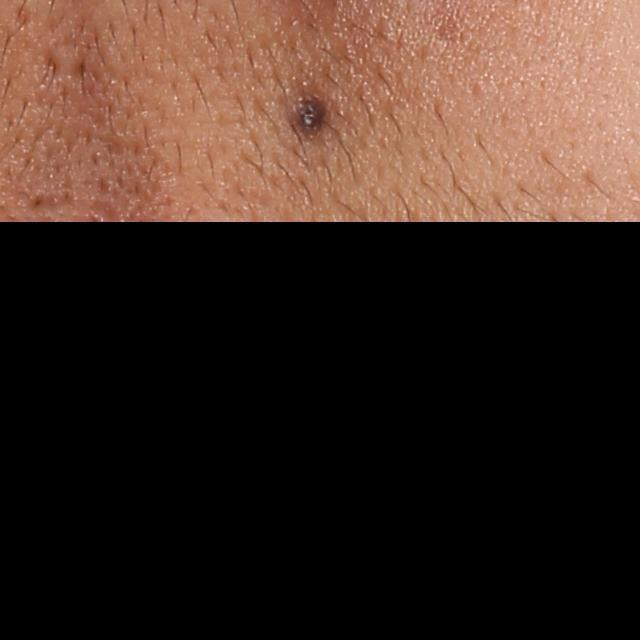atrophic_scar: (40, 47, 58, 83)
nevus: (288, 91, 341, 143)
